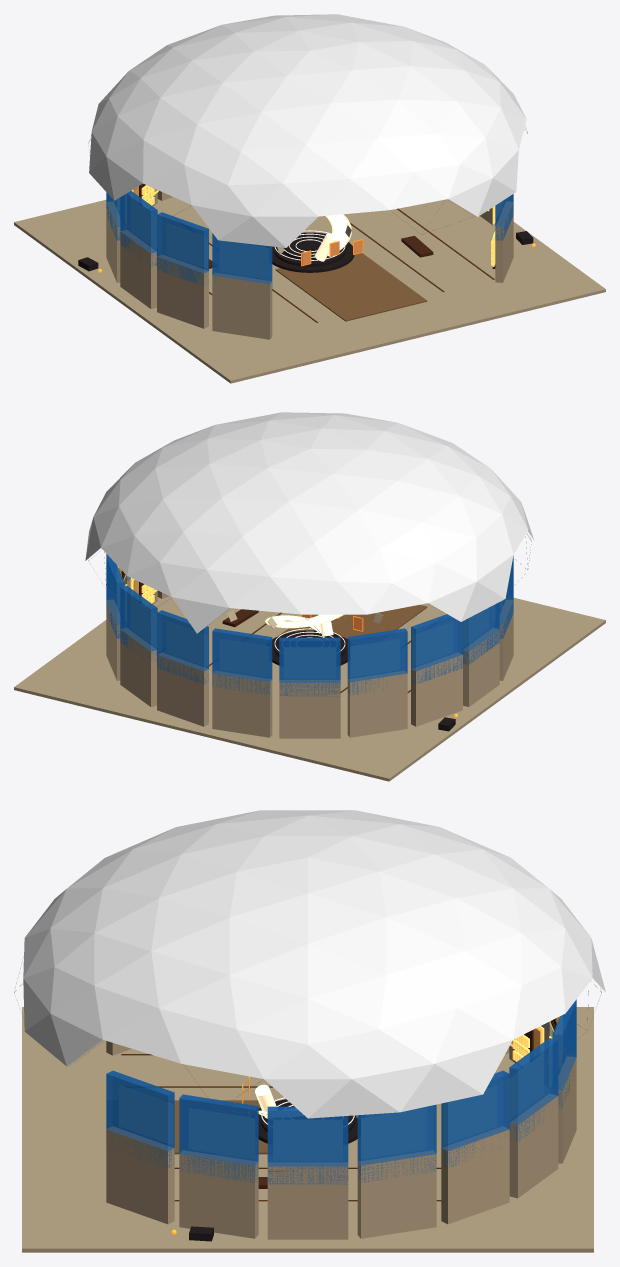
File: wuzhen_history_cultural_hall_reference.glb
3 renders of one model, top to bottom at view 1: azimuth 30°, elevation 25°; view 2: azimuth 150°, elevation 25°; view 3: azimuth 270°, elevation 25°, orthographic. The views are drawn at different scales.
Parts seen in each view (by area): view 1: Reference_Transparent_Glass_Dome, Museum_Main_Floor, Archive_Grand_Approach, Archive_Wall_11_0, Archive_Wall_10_0, Archive_Wall_10_1, Archive_Wall_11_1, Archive_Wall_09_0, Archive_Wall_09_1, Archive_Wall_16_0, Archive_Wall_08_0, Temporal_Archive_Podium_0 (+4 smaller); view 2: Reference_Transparent_Glass_Dome, Museum_Main_Floor, Archive_Wall_06_0, Archive_Wall_05_0, Archive_Wall_07_0, Archive_Wall_06_1, Archive_Wall_05_1, Archive_Wall_04_0, Archive_Wall_08_0, Archive_Wall_07_1, Archive_Wall_08_1, Archive_Wall_04_1 (+10 smaller); view 3: Reference_Transparent_Glass_Dome, Museum_Main_Floor, Archive_Wall_00_0, Archive_Wall_01_0, Archive_Wall_17_0, Archive_Wall_17_1, Archive_Wall_02_0, Archive_Wall_16_0, Archive_Wall_00_1, Archive_Wall_16_1, Archive_Wall_01_1, Archive_Wall_03_0 (+5 smaller).
Part boxes in pixels (left/top/right/bottom): Reference_Transparent_Glass_Dome: left=89, top=14, right=526, bottom=247; Museum_Main_Floor: left=14, top=197, right=605, bottom=383; Archive_Grand_Approach: left=275, top=253, right=427, bottom=321; Archive_Wall_11_0: left=212, top=273, right=272, bottom=339; Archive_Wall_10_0: left=157, top=255, right=208, bottom=328; Archive_Wall_10_1: left=157, top=212, right=208, bottom=286; Archive_Wall_11_1: left=212, top=233, right=272, bottom=293; Archive_Wall_09_0: left=120, top=230, right=156, bottom=308; Archive_Wall_09_1: left=120, top=191, right=157, bottom=266; Archive_Wall_16_0: left=495, top=201, right=513, bottom=282; Archive_Wall_08_0: left=106, top=201, right=120, bottom=282; Temporal_Archive_Podium_0: left=272, top=232, right=354, bottom=272; Reference_Transparent_Glass_Dome: left=85, top=412, right=534, bottom=633; Museum_Main_Floor: left=14, top=596, right=605, bottom=781; Archive_Wall_06_0: left=279, top=680, right=340, bottom=738; Archive_Wall_05_0: left=212, top=671, right=272, bottom=737; Archive_Wall_07_0: left=347, top=671, right=407, bottom=737; Archive_Wall_06_1: left=279, top=637, right=340, bottom=696; Archive_Wall_05_1: left=212, top=628, right=272, bottom=694; Archive_Wall_04_0: left=157, top=653, right=208, bottom=726; Archive_Wall_08_0: left=411, top=653, right=462, bottom=726; Archive_Wall_07_1: left=347, top=628, right=407, bottom=695; Archive_Wall_08_1: left=411, top=614, right=462, bottom=683; Archive_Wall_04_1: left=157, top=610, right=208, bottom=684; Reference_Transparent_Glass_Dome: left=23, top=810, right=605, bottom=1118; Museum_Main_Floor: left=22, top=1007, right=593, bottom=1252; Archive_Wall_00_0: left=267, top=1162, right=348, bottom=1239; Archive_Wall_01_0: left=357, top=1150, right=436, bottom=1238; Archive_Wall_17_0: left=179, top=1150, right=258, bottom=1238; Archive_Wall_17_1: left=179, top=1094, right=258, bottom=1182; Archive_Wall_02_0: left=441, top=1126, right=509, bottom=1224; Archive_Wall_16_0: left=106, top=1126, right=174, bottom=1224; Archive_Wall_00_1: left=267, top=1106, right=348, bottom=1184; Archive_Wall_16_1: left=106, top=1070, right=174, bottom=1167; Archive_Wall_01_1: left=357, top=1104, right=436, bottom=1183; Archive_Wall_03_0: left=509, top=1094, right=558, bottom=1198.
Bounding box in the file's own units: 35.44 × 17.98 × 35.2.
